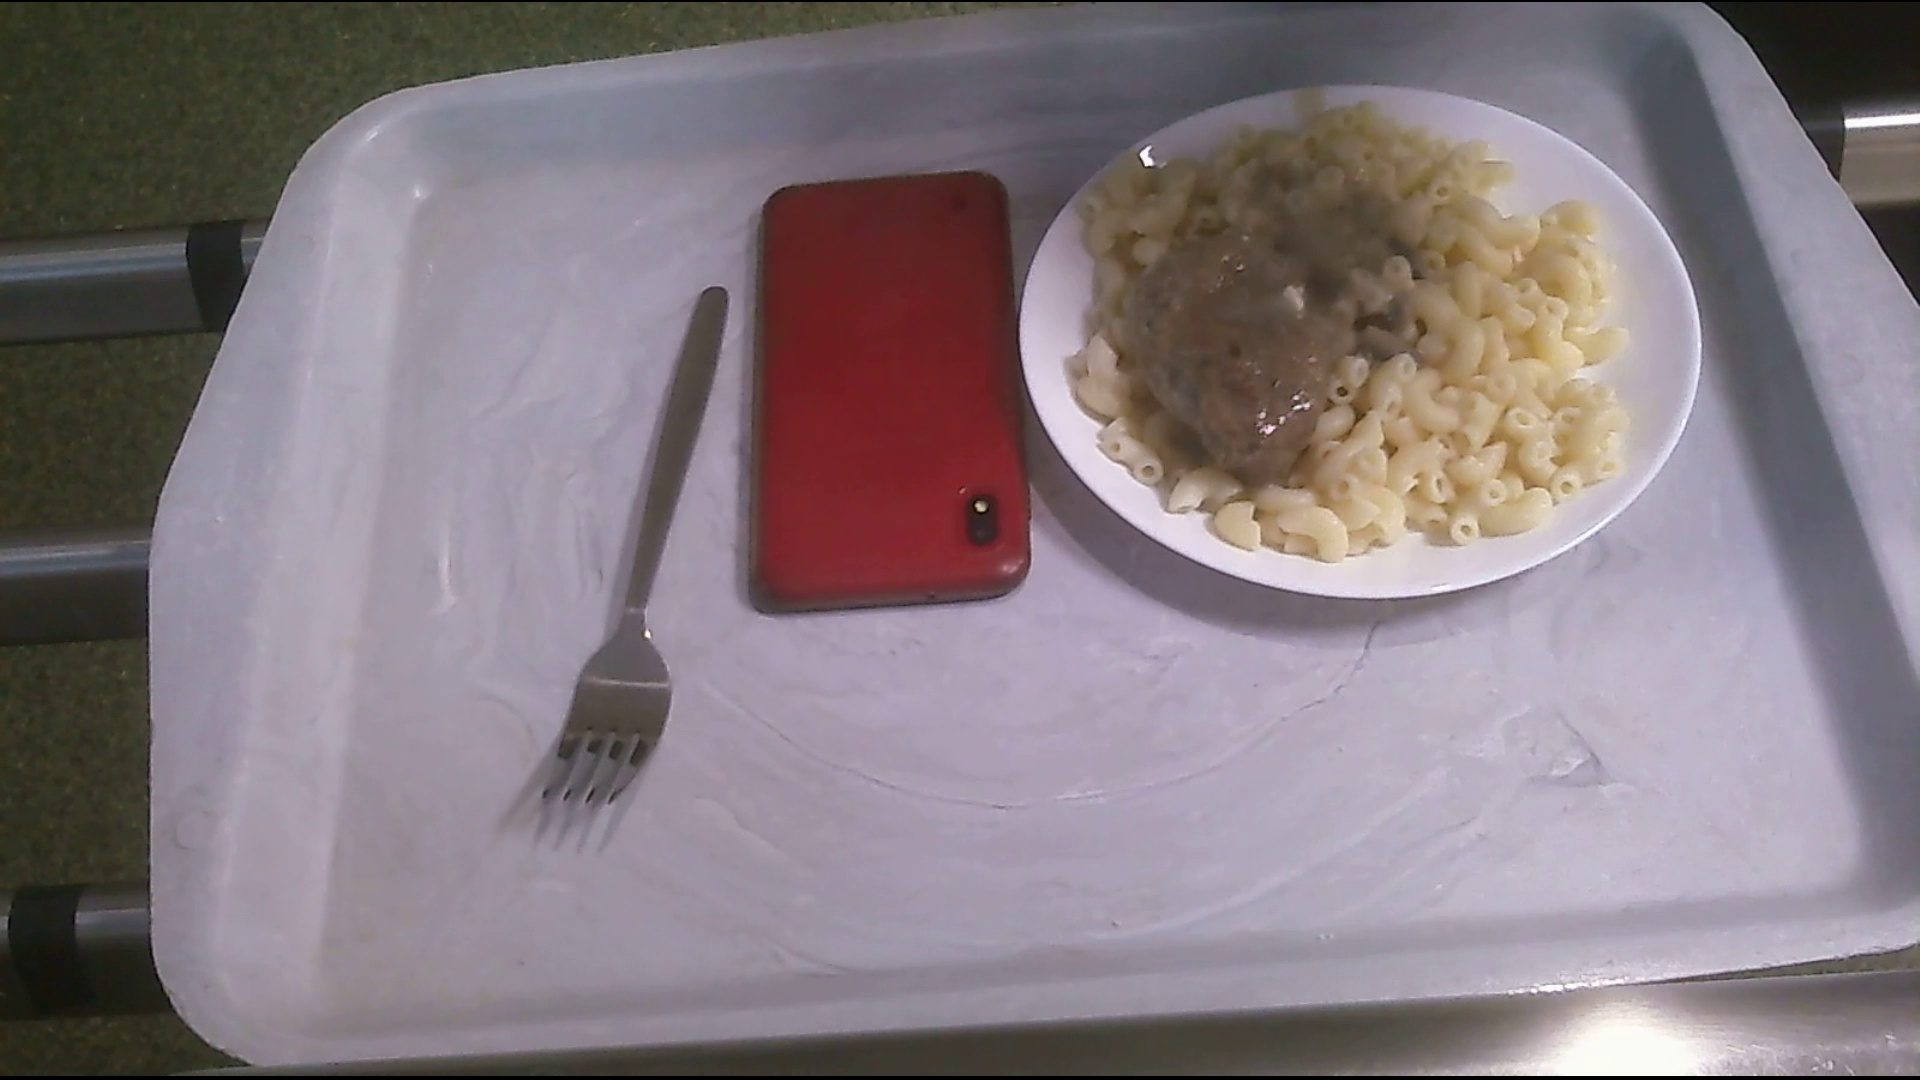cutlery: (541, 290, 742, 806)
other: (752, 177, 1029, 607)
plate: (1025, 87, 1706, 603)
